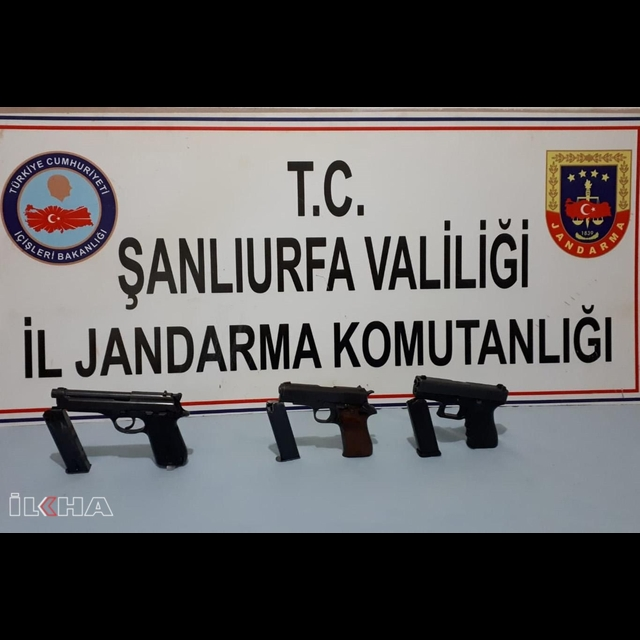SILAH: (34, 367, 202, 483), (252, 349, 381, 482), (389, 363, 515, 469)
